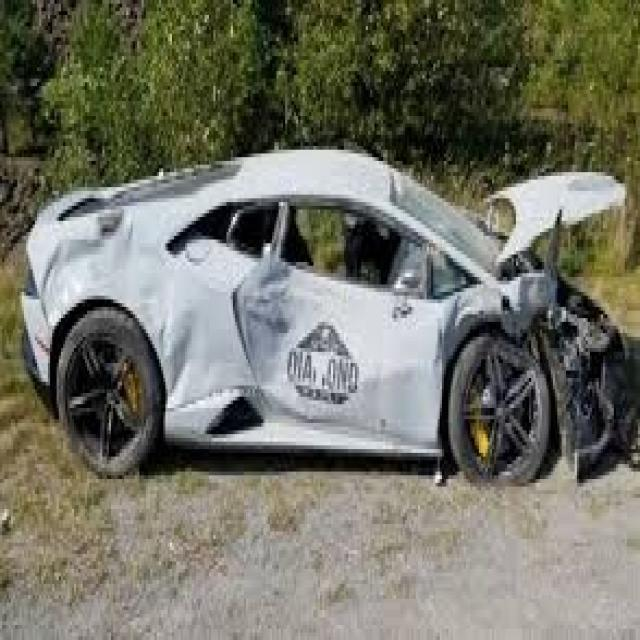accident: (18, 105, 640, 511)
